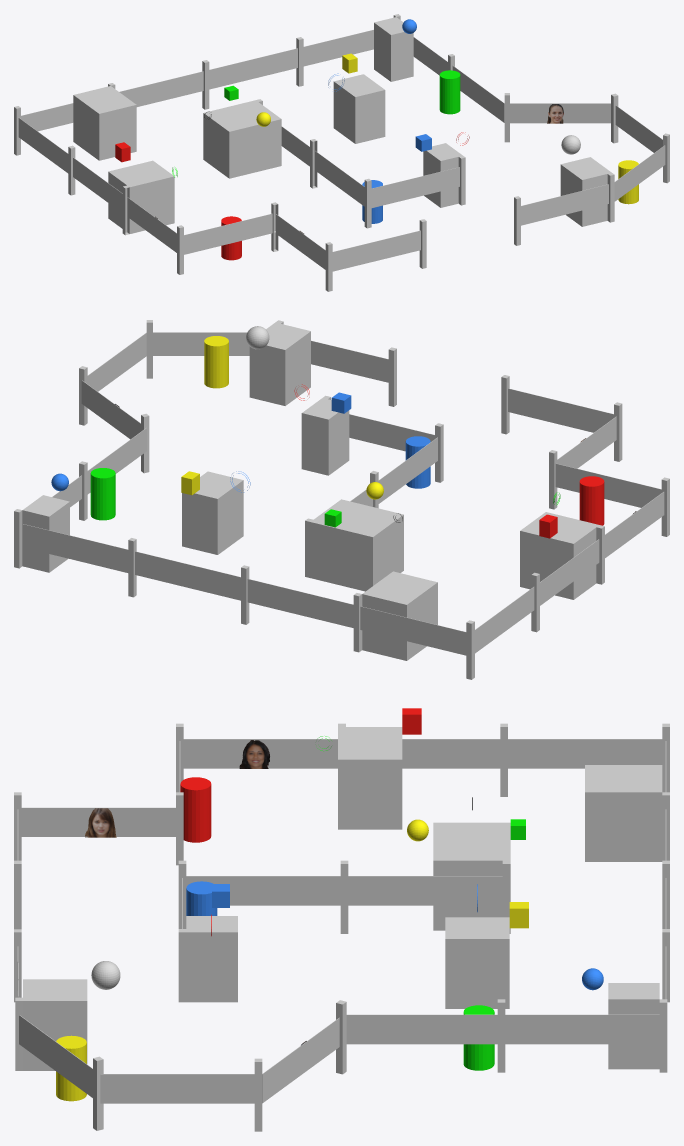
File: rins_task1_p3.dae
The picture shows the model from 3 angles, top to bottom: view 1: azimuth 30°, elevation 25°; view 2: azimuth 150°, elevation 25°; view 3: azimuth 270°, elevation 25°; orthographic projection. The views are drawn at different scales.
Parts seen in each view (by area): view 1: SketchUp (×25); view 2: SketchUp (×26); view 3: SketchUp (×27).
Boxes of the visible parts, left/top/right/bottom form: SketchUp (×25): left=14, top=14, right=669, bottom=291; SketchUp (×26): left=14, top=320, right=669, bottom=679; SketchUp (×27): left=15, top=723, right=669, bottom=1131.
Size of the model in its own units: 245 by 201 by 33.48.
Materials: 9 (3 with a texture image).
